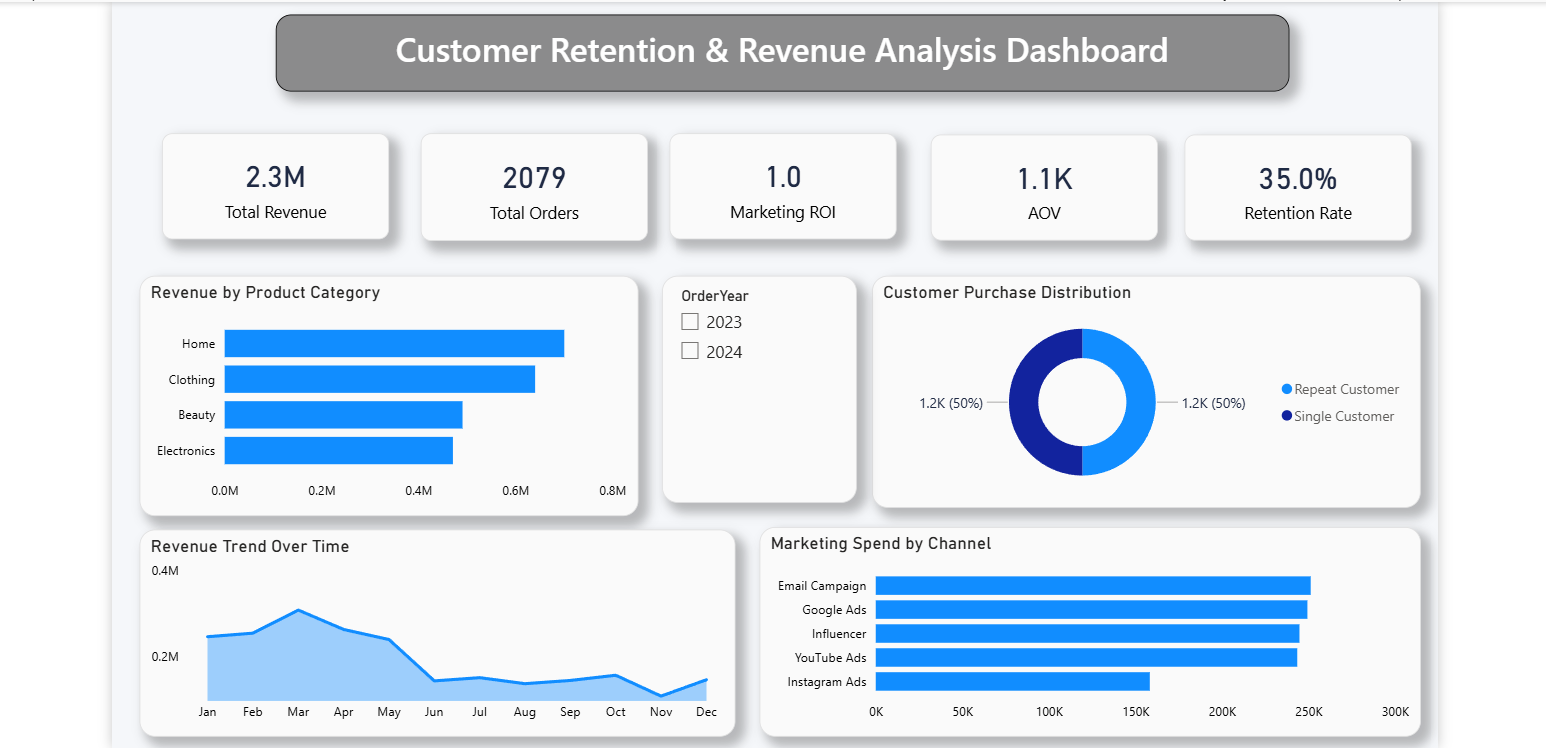

Layout of this report page (visuals, bound fields, positions):
{"tool":"powerbi","page":{"name":"Dashboard","canvas":[1280,720],"ordinal":0},"visuals":[{"type":"card","fields":{"Values":["Orders.Total Revenue"]},"box":[48.3,126.7,219.6,102.5],"z":0},{"type":"card","fields":{"Values":["Orders.Total Orders"]},"box":[298,126.7,219.6,103.8],"z":1000},{"type":"card","fields":{"Values":["Marketing.Marketing ROI"]},"box":[538.1,126.7,219.6,102.5],"z":2000},{"type":"card","fields":{"Values":["Orders.AOV"]},"box":[790.2,127.9,219.6,102.5],"z":3000},{"type":"card","fields":{"Values":["Orders.Retention Rate"]},"box":[1035.1,127.9,219.6,102.5],"z":4000},{"type":"clusteredBarChart","fields":{"Category":["Products.Category"],"Y":["Orders.Total Revenue"]},"box":[26.5,264.2,481.4,231.6],"z":5000},{"type":"lineChart","title":" Revenue Trend Over Time","fields":{"Category":["Orders.OrderMonth"],"Y":["Orders.Total Revenue"]},"box":[26.5,509.1,575.5,200.3],"z":6000},{"type":"donutChart","title":"Customer Purchase Distribution","fields":{"Category":["Orders.Customer Type"],"Y":["CountNonNull(Customers.CustomerID)"]},"box":[733.5,264.2,529.6,224.4],"z":7000},{"type":"barChart","fields":{"Category":["Marketing.Channel"],"Y":["Marketing.Marketing Spend"]},"box":[624.9,506.7,638.2,202.7],"z":8000},{"type":"slicer","fields":{"Values":["Orders.OrderYear"]},"box":[530.8,264.2,188.2,219.6],"z":9000},{"type":"textbox","box":[158,12.1,978.4,74.8],"z":10000}]}

Visuals, with their boxes on the page's 1280x720 design canvas (x1, y1, x2, y2). These are canvas units, not pixel positions in the 1546x748 screenshot, which may show the page scaled, cropped or inside an application window:
card - Orders.Total Revenue: [x1=48, y1=127, x2=268, y2=229]
card - Orders.Total Orders: [x1=298, y1=127, x2=518, y2=230]
card - Marketing.Marketing ROI: [x1=538, y1=127, x2=758, y2=229]
card - Orders.AOV: [x1=790, y1=128, x2=1010, y2=230]
card - Orders.Retention Rate: [x1=1035, y1=128, x2=1255, y2=230]
clusteredBarChart - Products.Category x Orders.Total Revenue: [x1=26, y1=264, x2=508, y2=496]
" Revenue Trend Over Time" lineChart: [x1=26, y1=509, x2=602, y2=709]
"Customer Purchase Distribution" donutChart: [x1=734, y1=264, x2=1263, y2=489]
barChart - Marketing.Channel x Marketing.Marketing Spend: [x1=625, y1=507, x2=1263, y2=709]
slicer - Orders.OrderYear: [x1=531, y1=264, x2=719, y2=484]
textbox: [x1=158, y1=12, x2=1136, y2=87]
